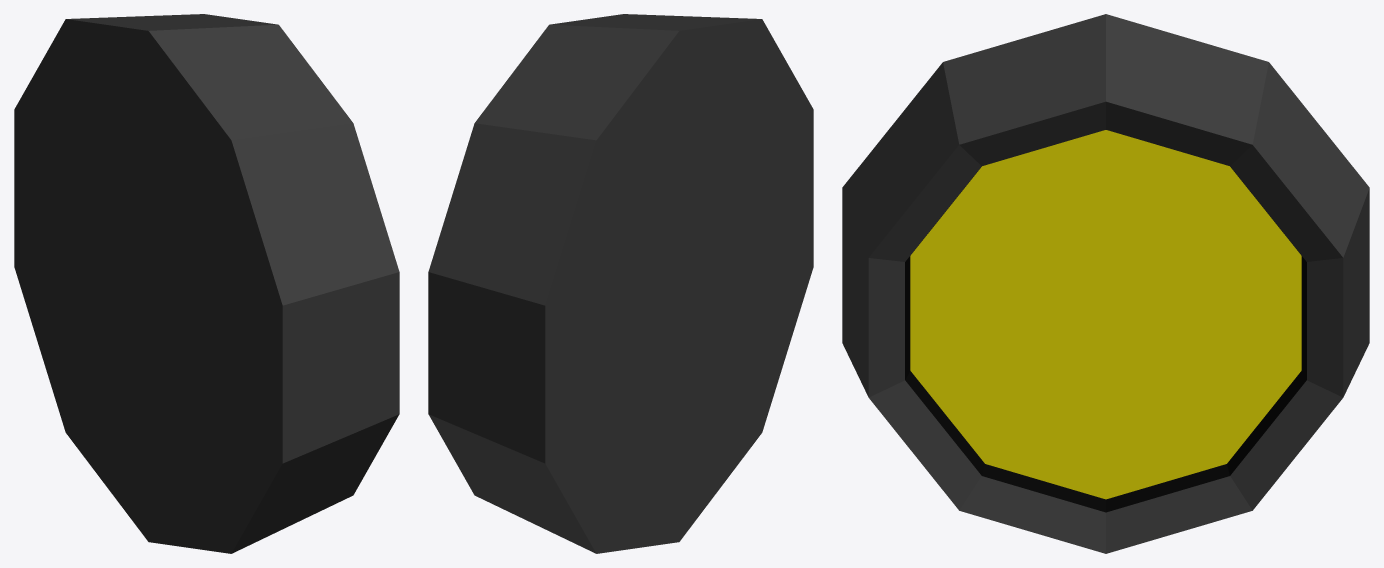
File: CircleBit.fbx
3 views of the same model, side by side, from view 1: azimuth 30°, elevation 25°; view 2: azimuth 150°, elevation 25°; view 3: azimuth 270°, elevation 25° (orthographic).
Visible parts, largest first — view 1: Cylinder; view 2: Cylinder; view 3: Cylinder.
Boxes of the visible parts, box(x1,y1,x2,y2) form: Cylinder: box(14, 14, 399, 553); Cylinder: box(428, 14, 813, 553); Cylinder: box(842, 14, 1369, 553).
Bounding box in the file's own units: 40 × 150 × 143.
